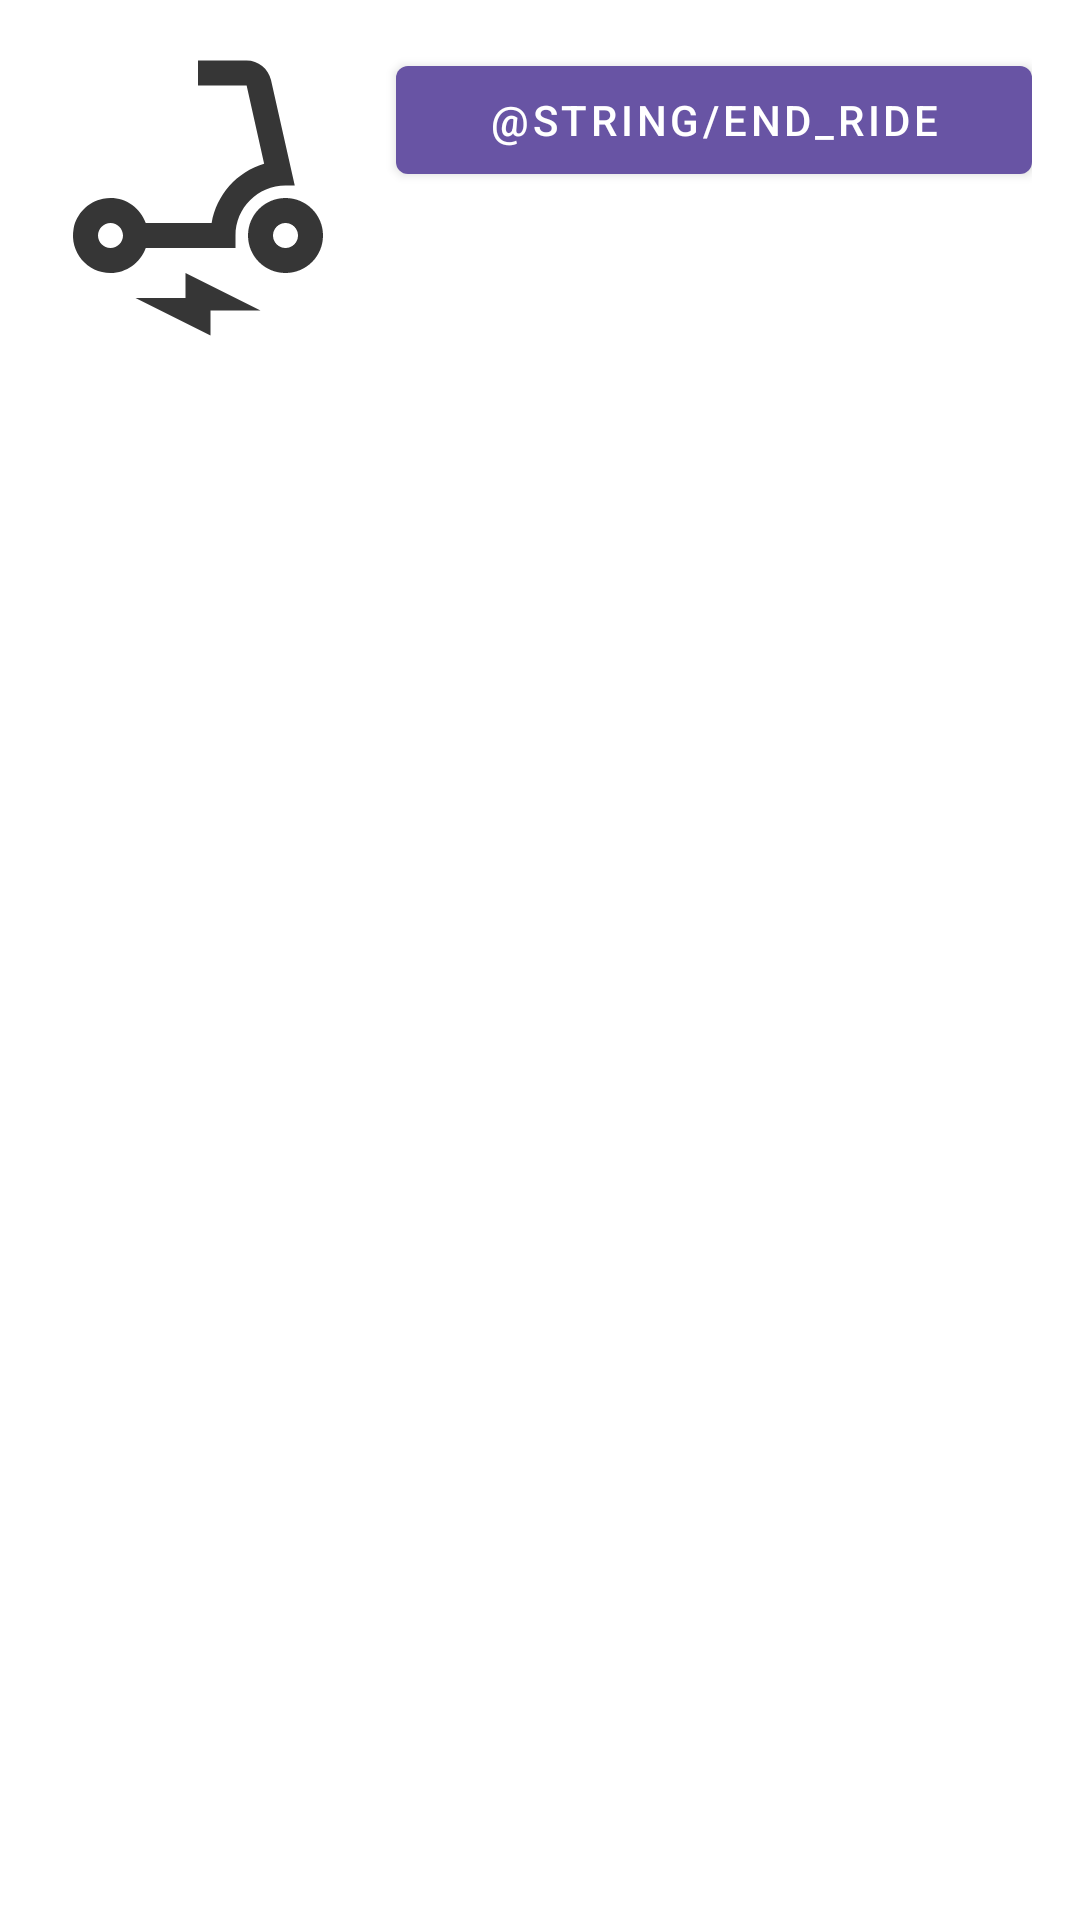

Screen size 1080*1920. Icon name, then its box in pixels as (x1=x1, y1=y1, x2=x2, y2=y2):
Scooter image: (x1=73, y1=60, x2=323, y2=336)
